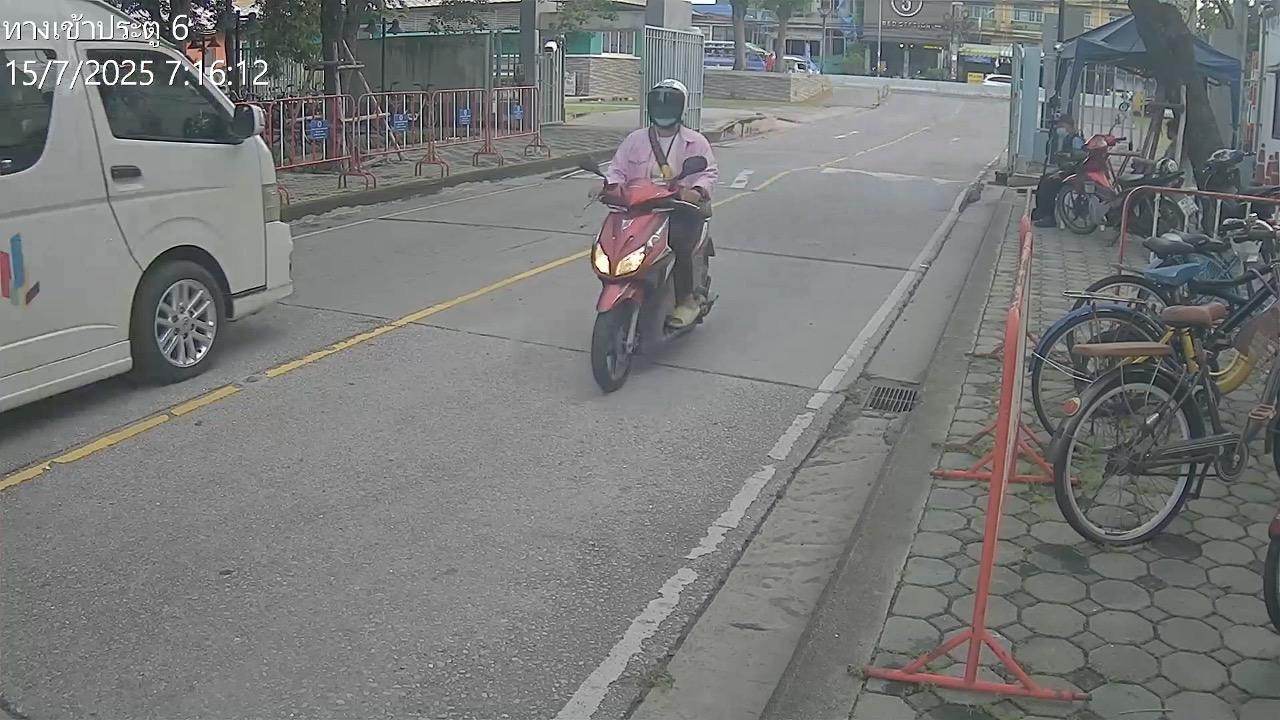With-Helmet: (646, 77, 690, 130)
